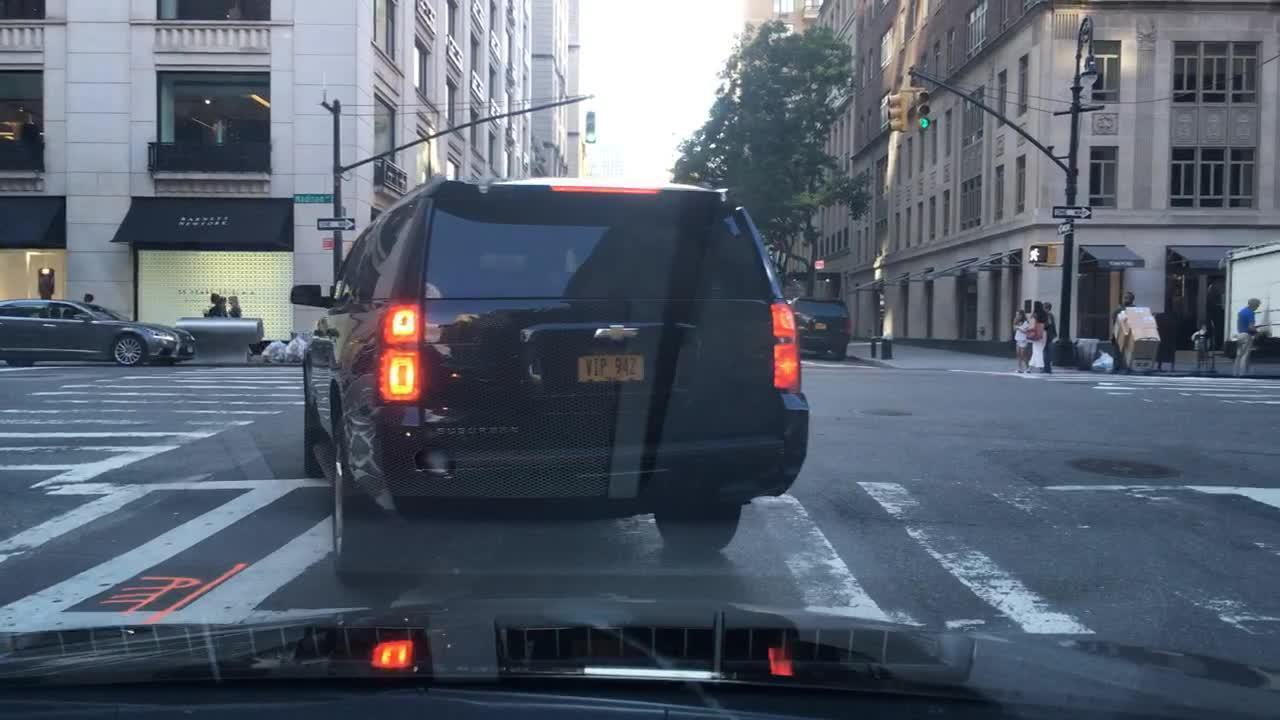chevrolet: (585, 312, 643, 344)
